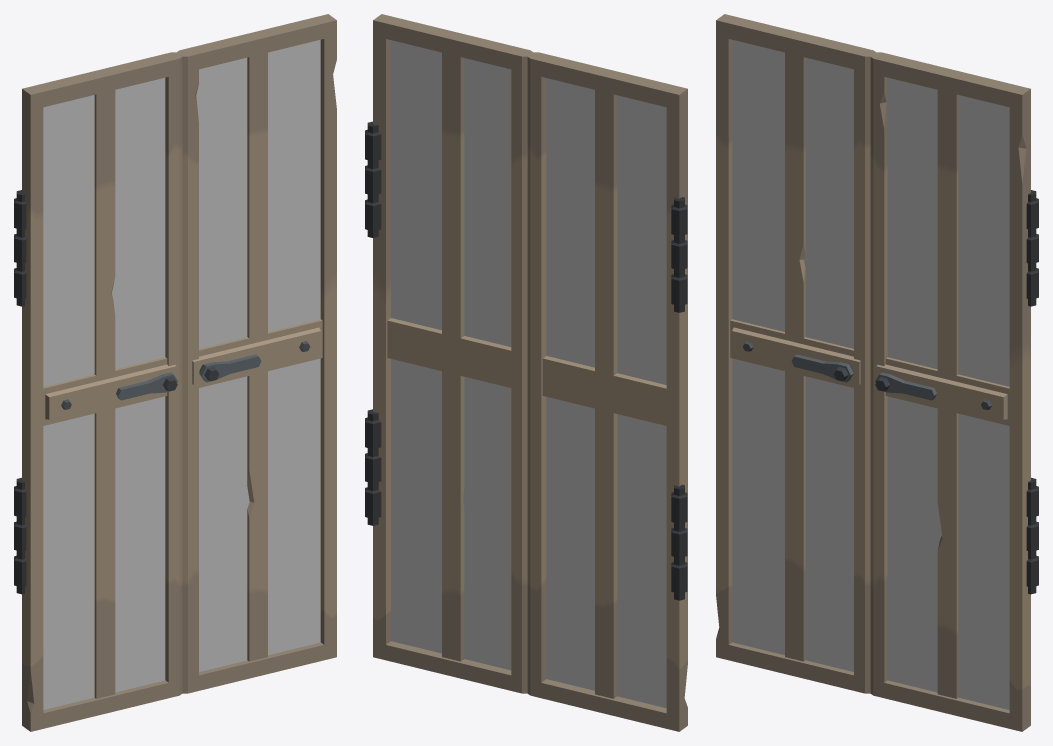
The model's file is SM_Prop_Weapon_Locker_01.fbx.
The picture shows the model from 3 angles, left to right: view 1: azimuth 30°, elevation 25°; view 2: azimuth 150°, elevation 25°; view 3: azimuth 330°, elevation 25°; orthographic projection.
Visible parts, largest first — view 1: SM_Prop_Weapon_Locker_01, SM_Prop_Weapon_Locker_01_Mesh_01, SM_Prop_Weapon_Locker_01_Mesh_02; view 2: SM_Prop_Weapon_Locker_01, SM_Prop_Weapon_Locker_01_Mesh_02, SM_Prop_Weapon_Locker_01_Mesh_01; view 3: SM_Prop_Weapon_Locker_01, SM_Prop_Weapon_Locker_01_Mesh_02, SM_Prop_Weapon_Locker_01_Mesh_01.
Boxes of the visible parts, <box> form: SM_Prop_Weapon_Locker_01: <box>14,14,336,731</box>; SM_Prop_Weapon_Locker_01_Mesh_01: <box>43,77,165,709</box>; SM_Prop_Weapon_Locker_01_Mesh_02: <box>196,40,320,671</box>; SM_Prop_Weapon_Locker_01: <box>365,14,687,731</box>; SM_Prop_Weapon_Locker_01_Mesh_02: <box>391,40,511,670</box>; SM_Prop_Weapon_Locker_01_Mesh_01: <box>546,78,666,708</box>; SM_Prop_Weapon_Locker_01: <box>716,14,1038,731</box>; SM_Prop_Weapon_Locker_01_Mesh_02: <box>887,77,1009,709</box>; SM_Prop_Weapon_Locker_01_Mesh_01: <box>732,40,853,671</box>.
Size of the model in its own units: 123 by 232 by 14.48.
